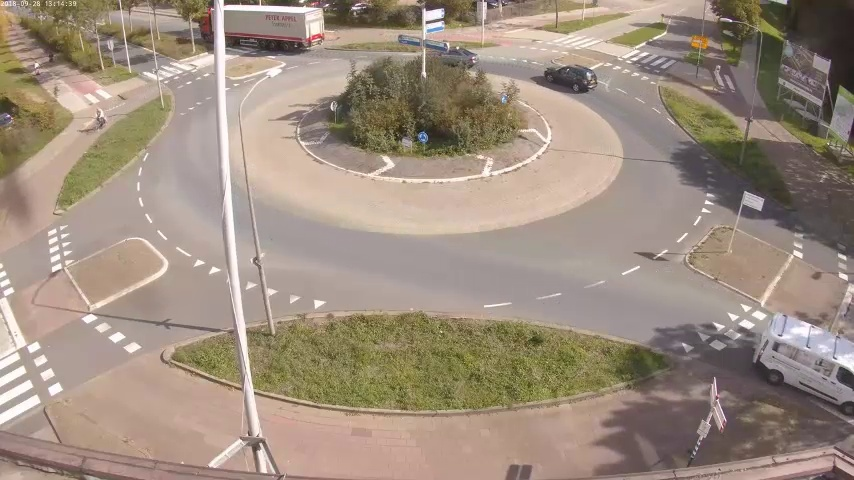bicycle: (88, 105, 109, 132)
car: (430, 44, 478, 75), (545, 62, 591, 93)
truck: (196, 6, 323, 48)
van: (751, 310, 850, 422)
